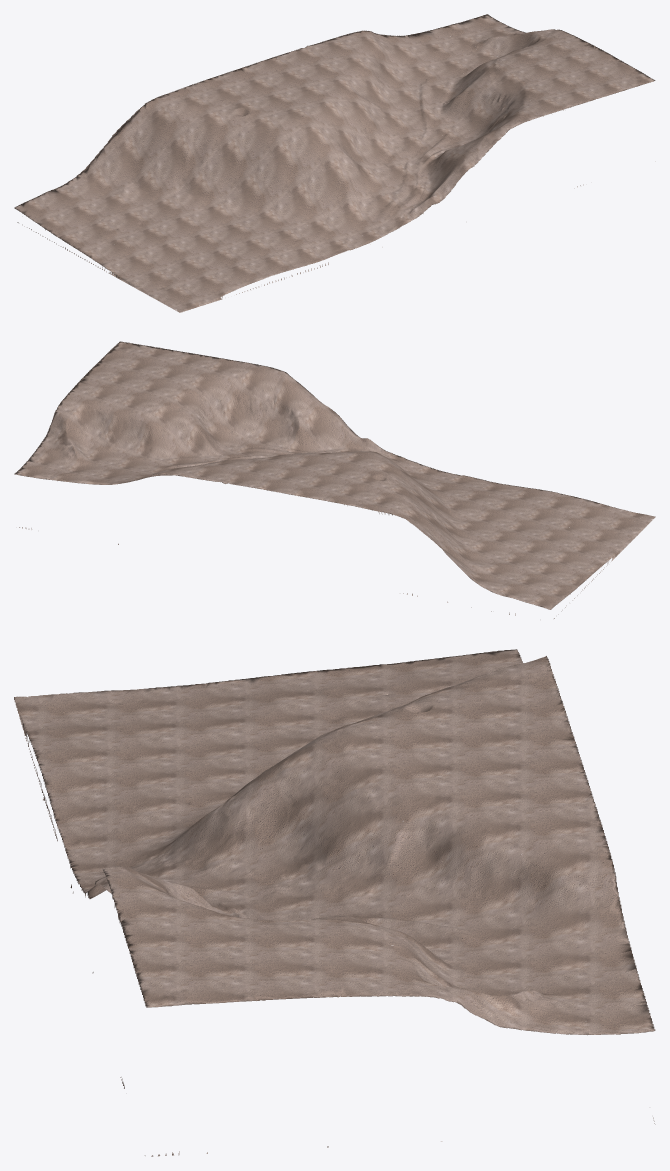
File: desert-mars-sand-1k-lod-candidate.glb
The picture shows the model from 3 angles, top to bottom: view 1: azimuth 30°, elevation 25°; view 2: azimuth 150°, elevation 25°; view 3: azimuth 270°, elevation 25°; orthographic projection. The views are drawn at different scales.
Visible parts, largest first — view 1: Object_2; view 2: Object_2; view 3: Object_2.
Part boxes in pixels (box(x1,y1,x2,y2)): Object_2: box(14, 14, 655, 312); Object_2: box(14, 341, 655, 618); Object_2: box(14, 649, 655, 1156).
Bounding box in the file's own units: 25 × 3.62 × 13.96.
Materials: 1 (1 with a texture image).
